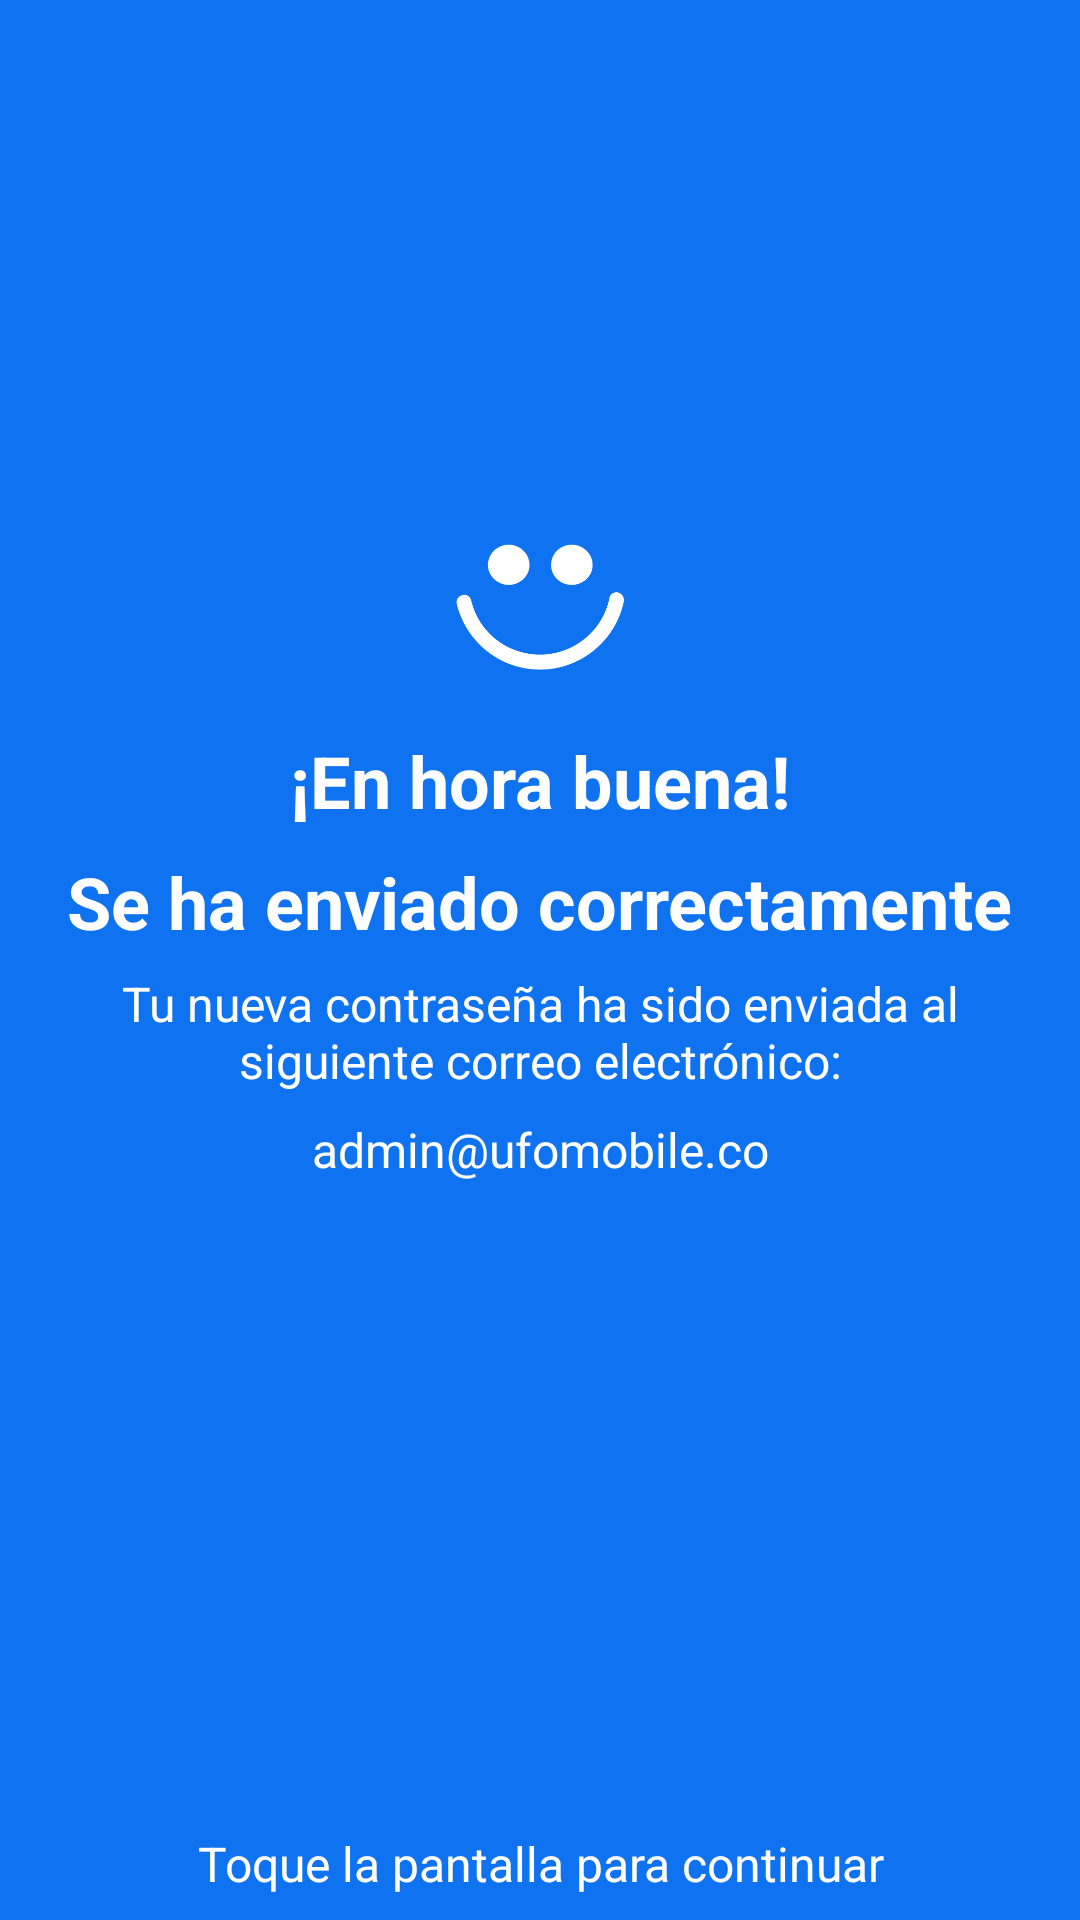

Icons on this 1080 × 1920 Android screen, each with its box as (x1, y1, x2, y2):
smile: (456, 544, 624, 670)
